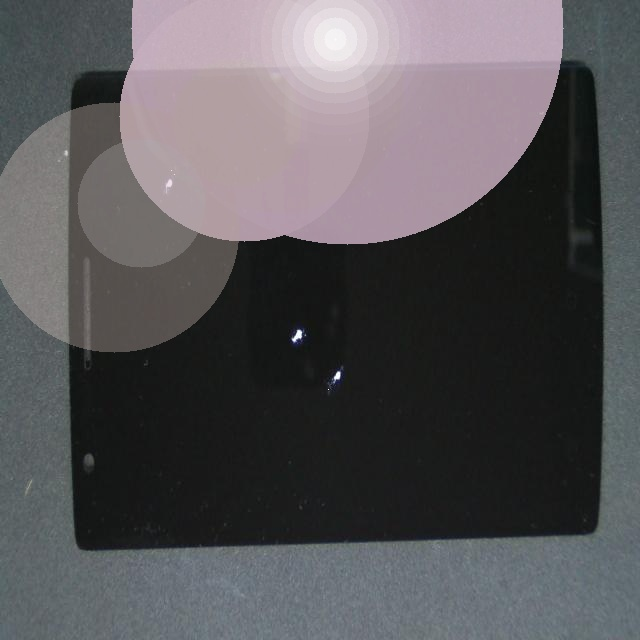stain: (166, 137, 485, 557), (133, 150, 422, 523), (77, 108, 234, 323)
